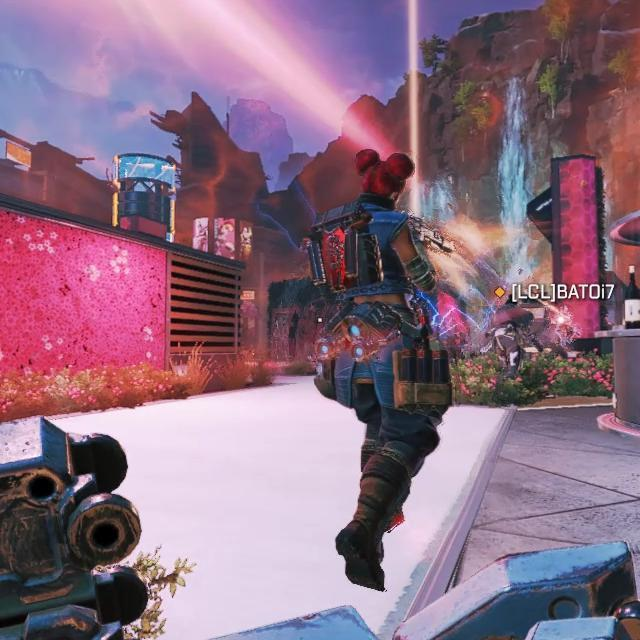avatar: (300, 147, 455, 595)
